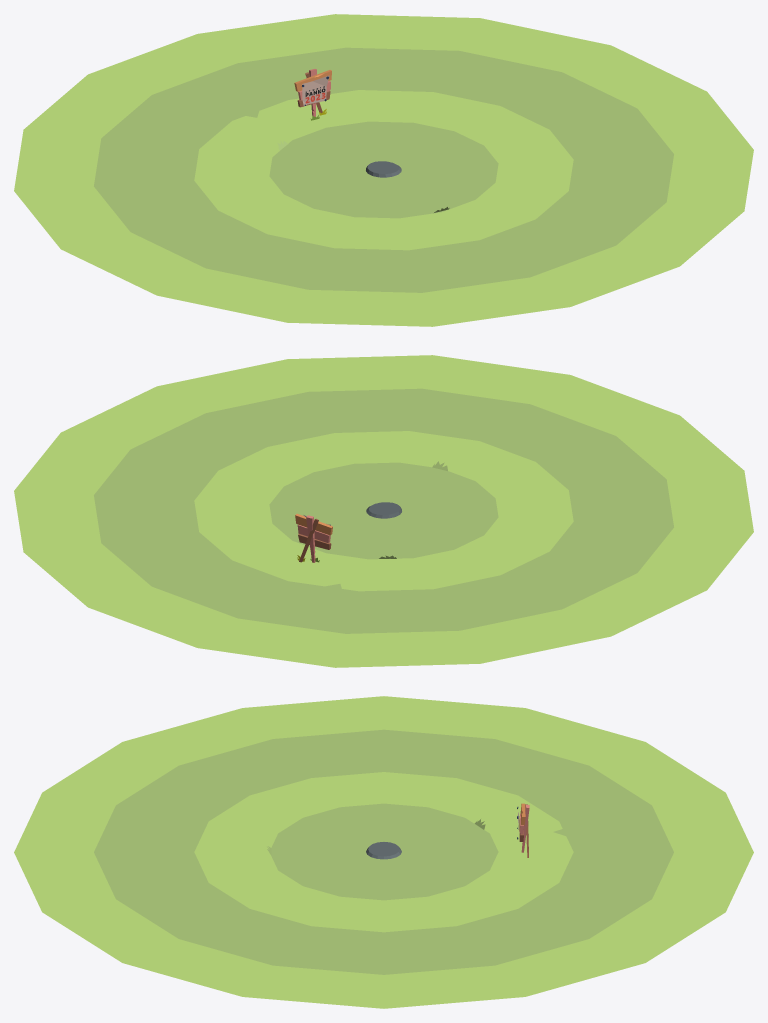
File: site.glb
3 renders of one model, top to bottom at view 1: azimuth 30°, elevation 25°; view 2: azimuth 150°, elevation 25°; view 3: azimuth 270°, elevation 25°, orthographic.
Parts seen in each view (by area): view 1: Circle, Circle.002, Circle.003, Circle.004, Cube.005; view 2: Circle, Circle.002, Circle.003, Circle.004; view 3: Circle, Circle.002, Circle.003, Circle.004.
Part boxes in pixels (x1=…): Circle: x1=14, y1=14, x2=753, y2=326; Circle.002: x1=94, y1=47, x2=673, y2=292; Circle.003: x1=194, y1=90, x2=573, y2=250; Circle.004: x1=269, y1=121, x2=498, y2=218; Cube.005: x1=302, y1=75, x2=329, y2=105; Circle: x1=14, y1=355, x2=753, y2=667; Circle.002: x1=94, y1=388, x2=673, y2=633; Circle.003: x1=194, y1=431, x2=573, y2=591; Circle.004: x1=269, y1=462, x2=498, y2=559; Circle: x1=14, y1=696, x2=753, y2=1008; Circle.002: x1=94, y1=729, x2=673, y2=974; Circle.003: x1=194, y1=772, x2=573, y2=932; Circle.004: x1=271, y1=803, x2=498, y2=900.
Bounding box in the file's own units: 40 × 2.83 × 40.
